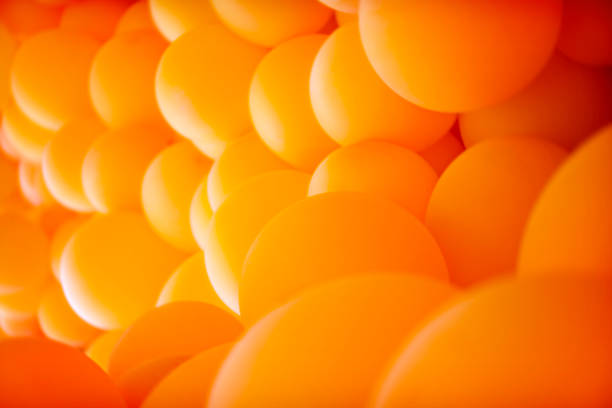Balloon: (382, 276, 612, 408), (359, 1, 563, 114), (62, 209, 166, 320), (155, 27, 249, 143), (1, 340, 130, 408), (10, 28, 93, 124), (90, 33, 158, 127), (82, 127, 150, 207), (558, 1, 612, 66)
